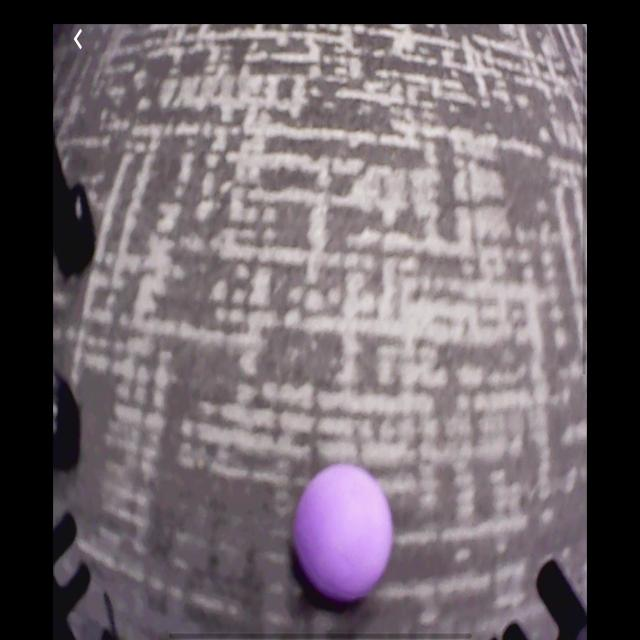ball: (293, 463, 395, 605)
